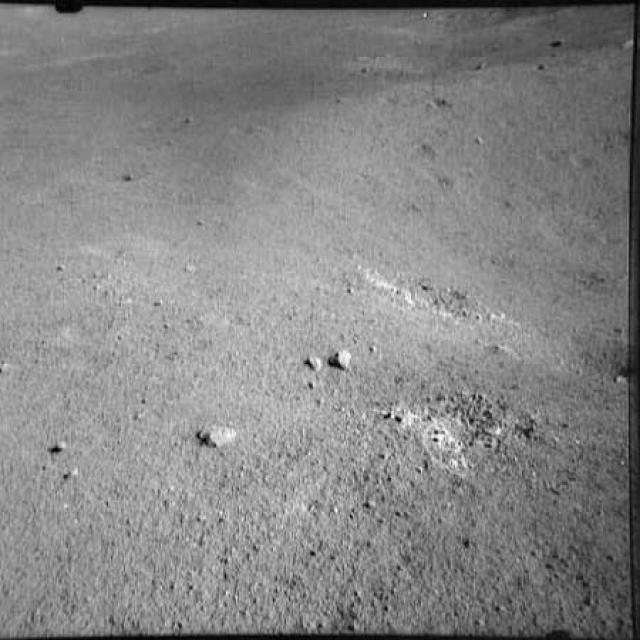crater: (303, 10, 639, 408)
rock: (172, 412, 250, 462)
